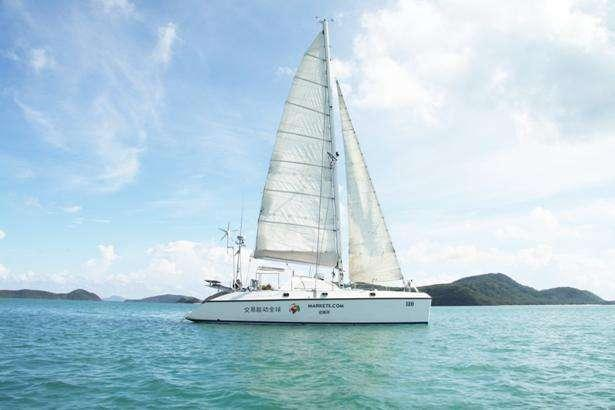fanchuan: (179, 22, 433, 323)
